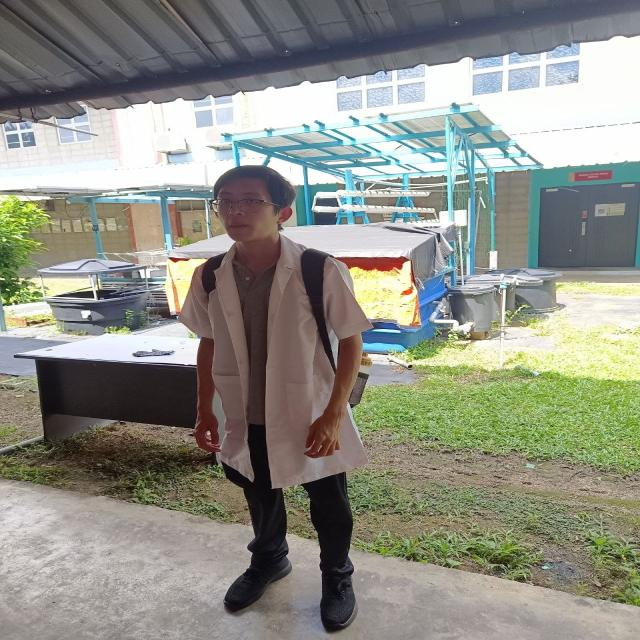person_with_labcoat: (179, 167, 371, 630)
